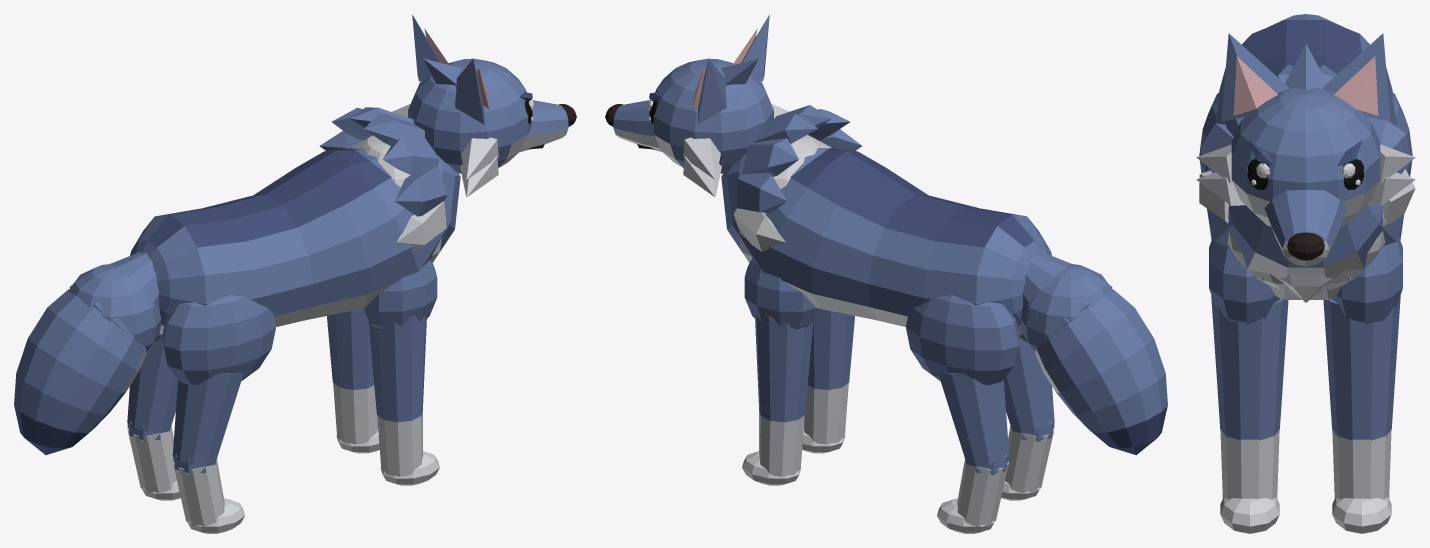
File: wolf.glb
The picture shows the model from 3 angles, left to right: view 1: azimuth 30°, elevation 25°; view 2: azimuth 150°, elevation 25°; view 3: azimuth 270°, elevation 25°; orthographic projection. The views are drawn at different scales.
Parts seen in each view (by area): view 1: body, tail_2, leg_br, head, leg_fr, leg_bl, leg_fl, tail; view 2: body, tail_2, leg_bl, head, leg_fl, leg_br, leg_fr, tail; view 3: head, body, leg_fl, leg_fr, leg_bl, leg_br.
Boxes of the visible parts, <box> form: body: <box>130,107,460,334</box>; tail_2: <box>14,264,161,455</box>; leg_br: <box>162,295,275,533</box>; head: <box>392,15,576,197</box>; leg_fr: <box>363,260,439,485</box>; leg_bl: <box>127,333,180,500</box>; leg_fl: <box>327,308,379,453</box>; tail: <box>69,252,159,346</box>; body: <box>721,105,1051,334</box>; tail_2: <box>1020,264,1167,455</box>; leg_bl: <box>906,295,1019,533</box>; head: <box>605,15,789,197</box>; leg_fl: <box>742,259,818,485</box>; leg_br: <box>1001,333,1054,500</box>; leg_fr: <box>802,308,854,453</box>; tail: <box>1022,252,1112,346</box>; head: <box>1196,33,1415,266</box>; body: <box>1199,20,1415,302</box>; leg_fl: <box>1323,237,1402,533</box>; leg_fr: <box>1209,237,1288,533</box>; leg_bl: <box>1392,92,1412,239</box>; leg_br: <box>1199,92,1219,239</box>.
Size of the model in its own units: 2.4 by 1.72 by 0.648.
